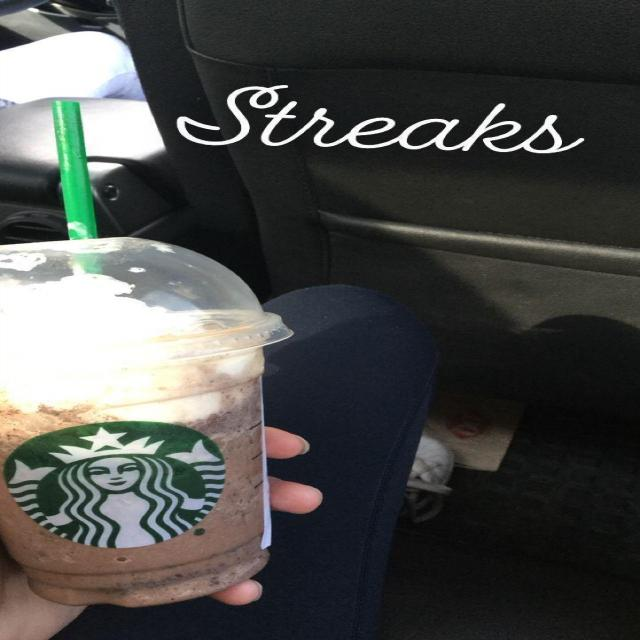cup-disposable: (1, 232, 294, 608)
